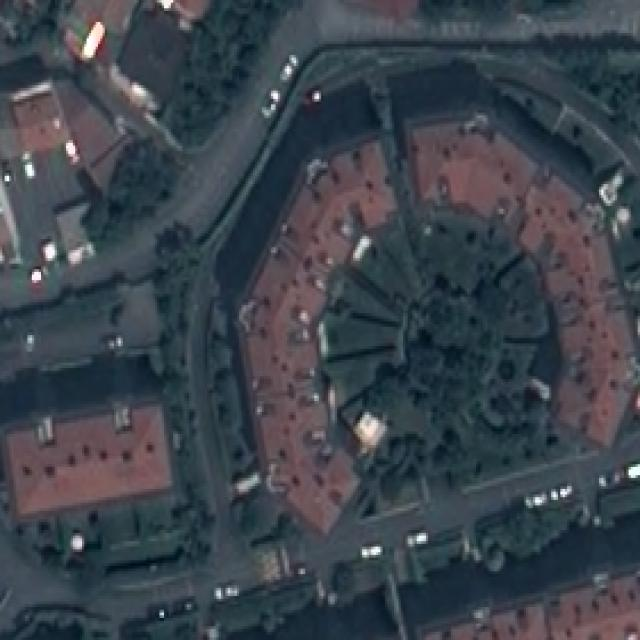Batiment: (410, 127, 634, 445), (239, 140, 398, 531), (8, 409, 171, 516), (422, 571, 640, 638), (54, 81, 131, 192), (13, 84, 68, 150)
